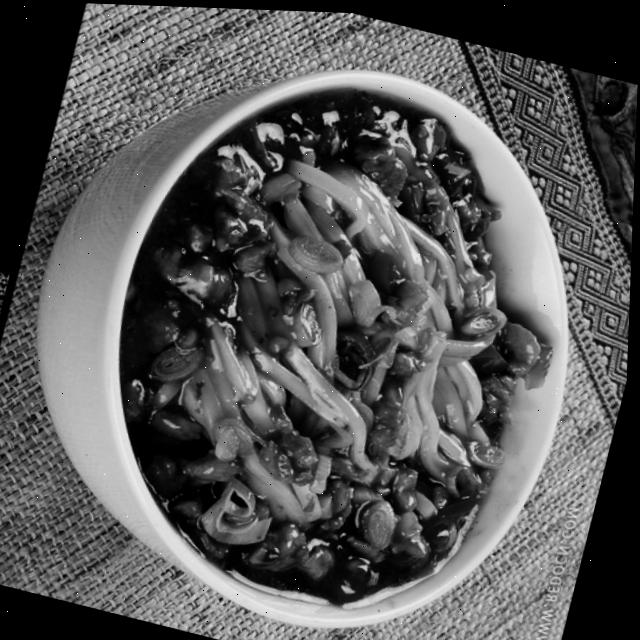面条主食: (27, 25, 628, 640)
